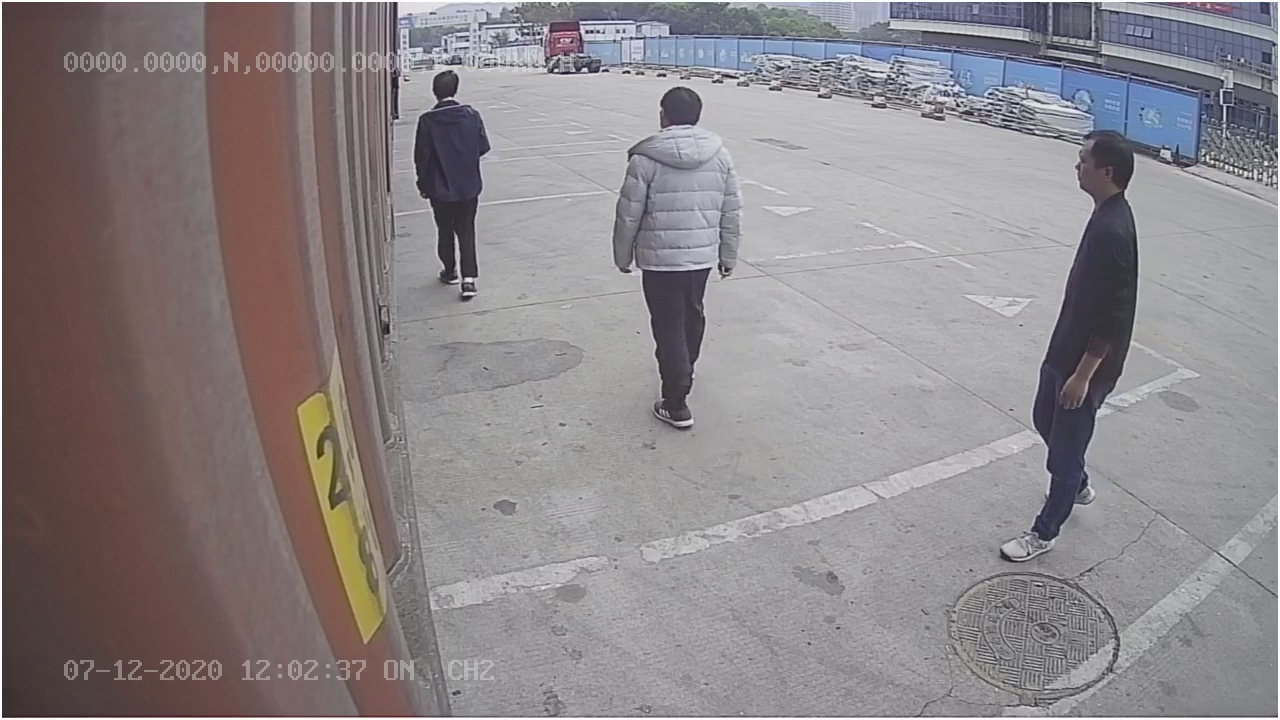person: (997, 112, 1141, 562), (614, 82, 743, 429)
